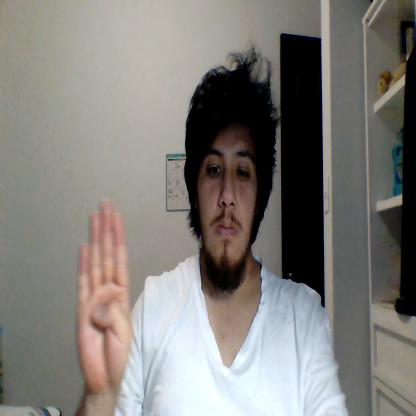B: (76, 196, 131, 391)
